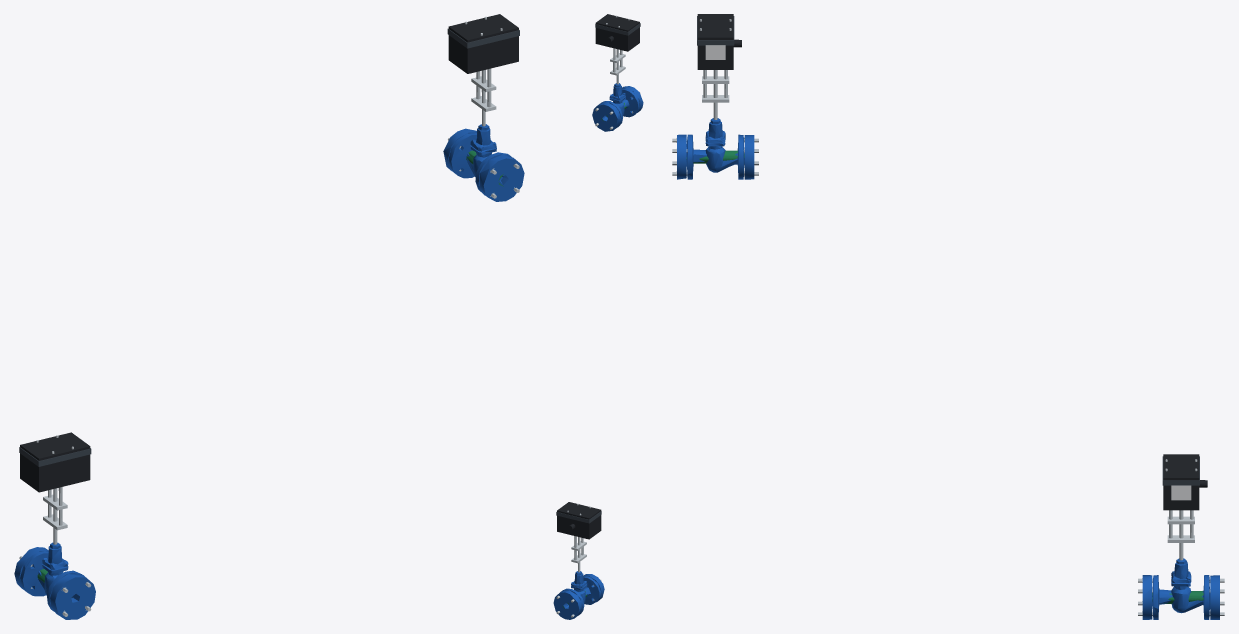
File: modulation.glb
The picture shows the model from 3 angles, left to right: view 1: azimuth 30°, elevation 25°; view 2: azimuth 150°, elevation 25°; view 3: azimuth 270°, elevation 25°; orthographic projection. The views are drawn at different scales.
Parts seen in each view (by area): view 1: mod_direct_drive, mod_eco_drive, mod_eco, mod_direct; view 2: mod_eco_drive, mod_direct_drive, mod_direct, mod_eco; view 3: mod_eco_drive, mod_direct_drive, mod_eco, mod_direct.
Part boxes in pixels (x1,y1,x2,y2): mod_direct_drive: [447, 14, 519, 126]; mod_eco_drive: [19, 432, 91, 544]; mod_eco: [14, 542, 95, 619]; mod_direct: [443, 124, 524, 201]; mod_eco_drive: [556, 502, 601, 572]; mod_direct_drive: [595, 14, 640, 84]; mod_direct: [592, 83, 643, 131]; mod_eco: [553, 571, 604, 619]; mod_eco_drive: [1162, 454, 1207, 560]; mod_direct_drive: [697, 14, 741, 119]; mod_eco: [1138, 558, 1224, 619]; mod_direct: [672, 118, 758, 179].
Bounding box in the file's own units: 0.806 × 2.33 × 1.72.
